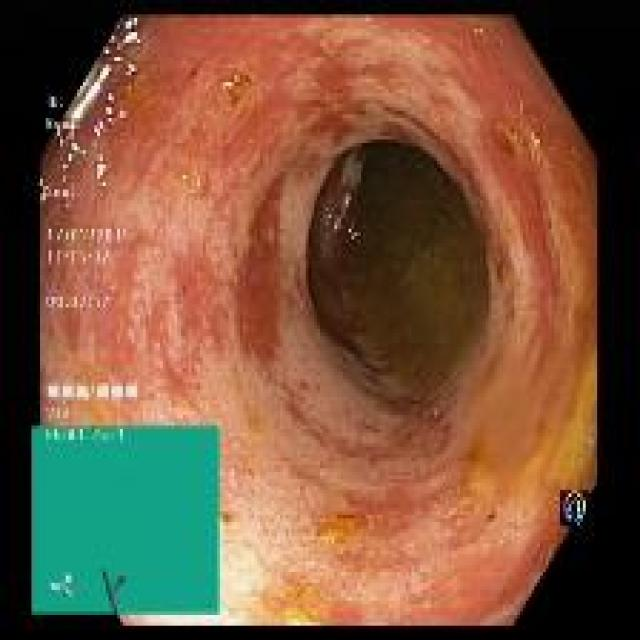ulcerative-colitis: (41, 19, 596, 622)
